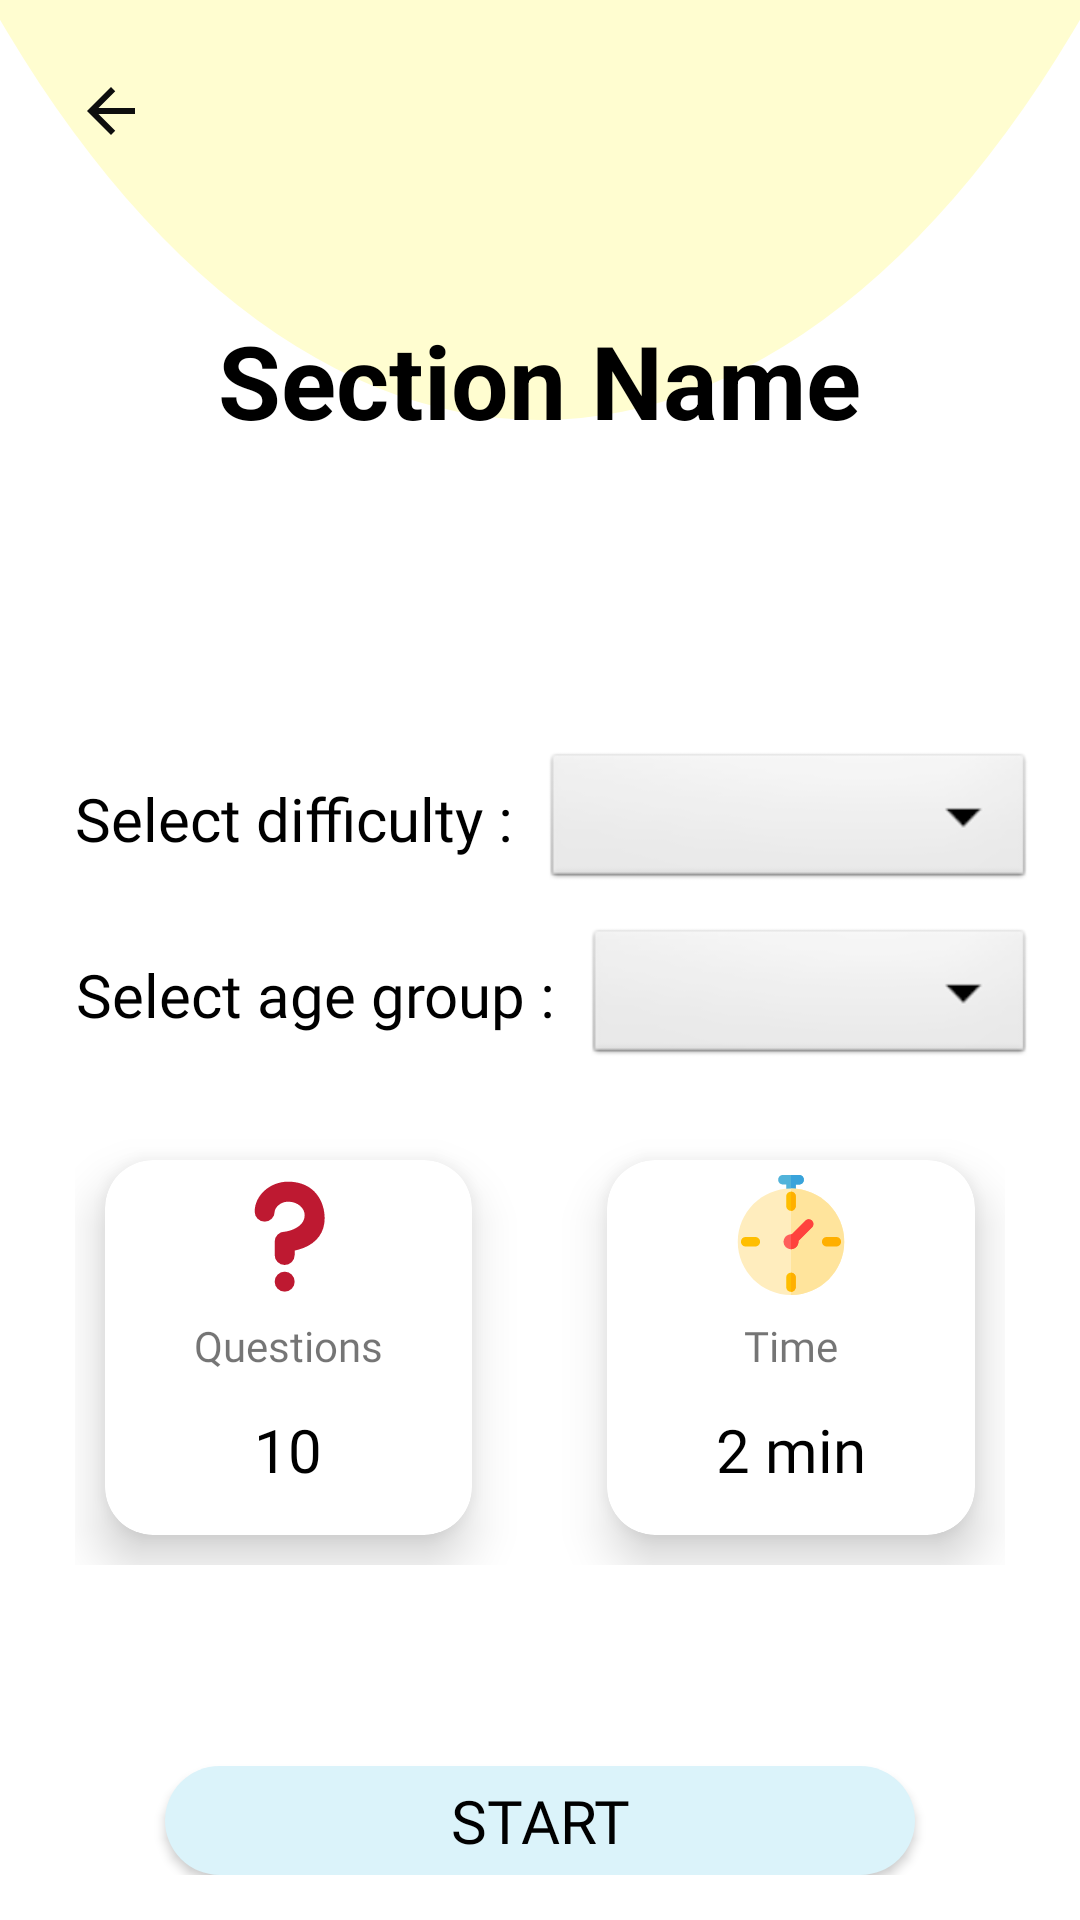

Screen size 1080 × 1920. Icon name, then its box in pixels as (x1, y1, x2, y2):
back: (87, 87, 135, 135)
question mark: (254, 1181, 325, 1292)
